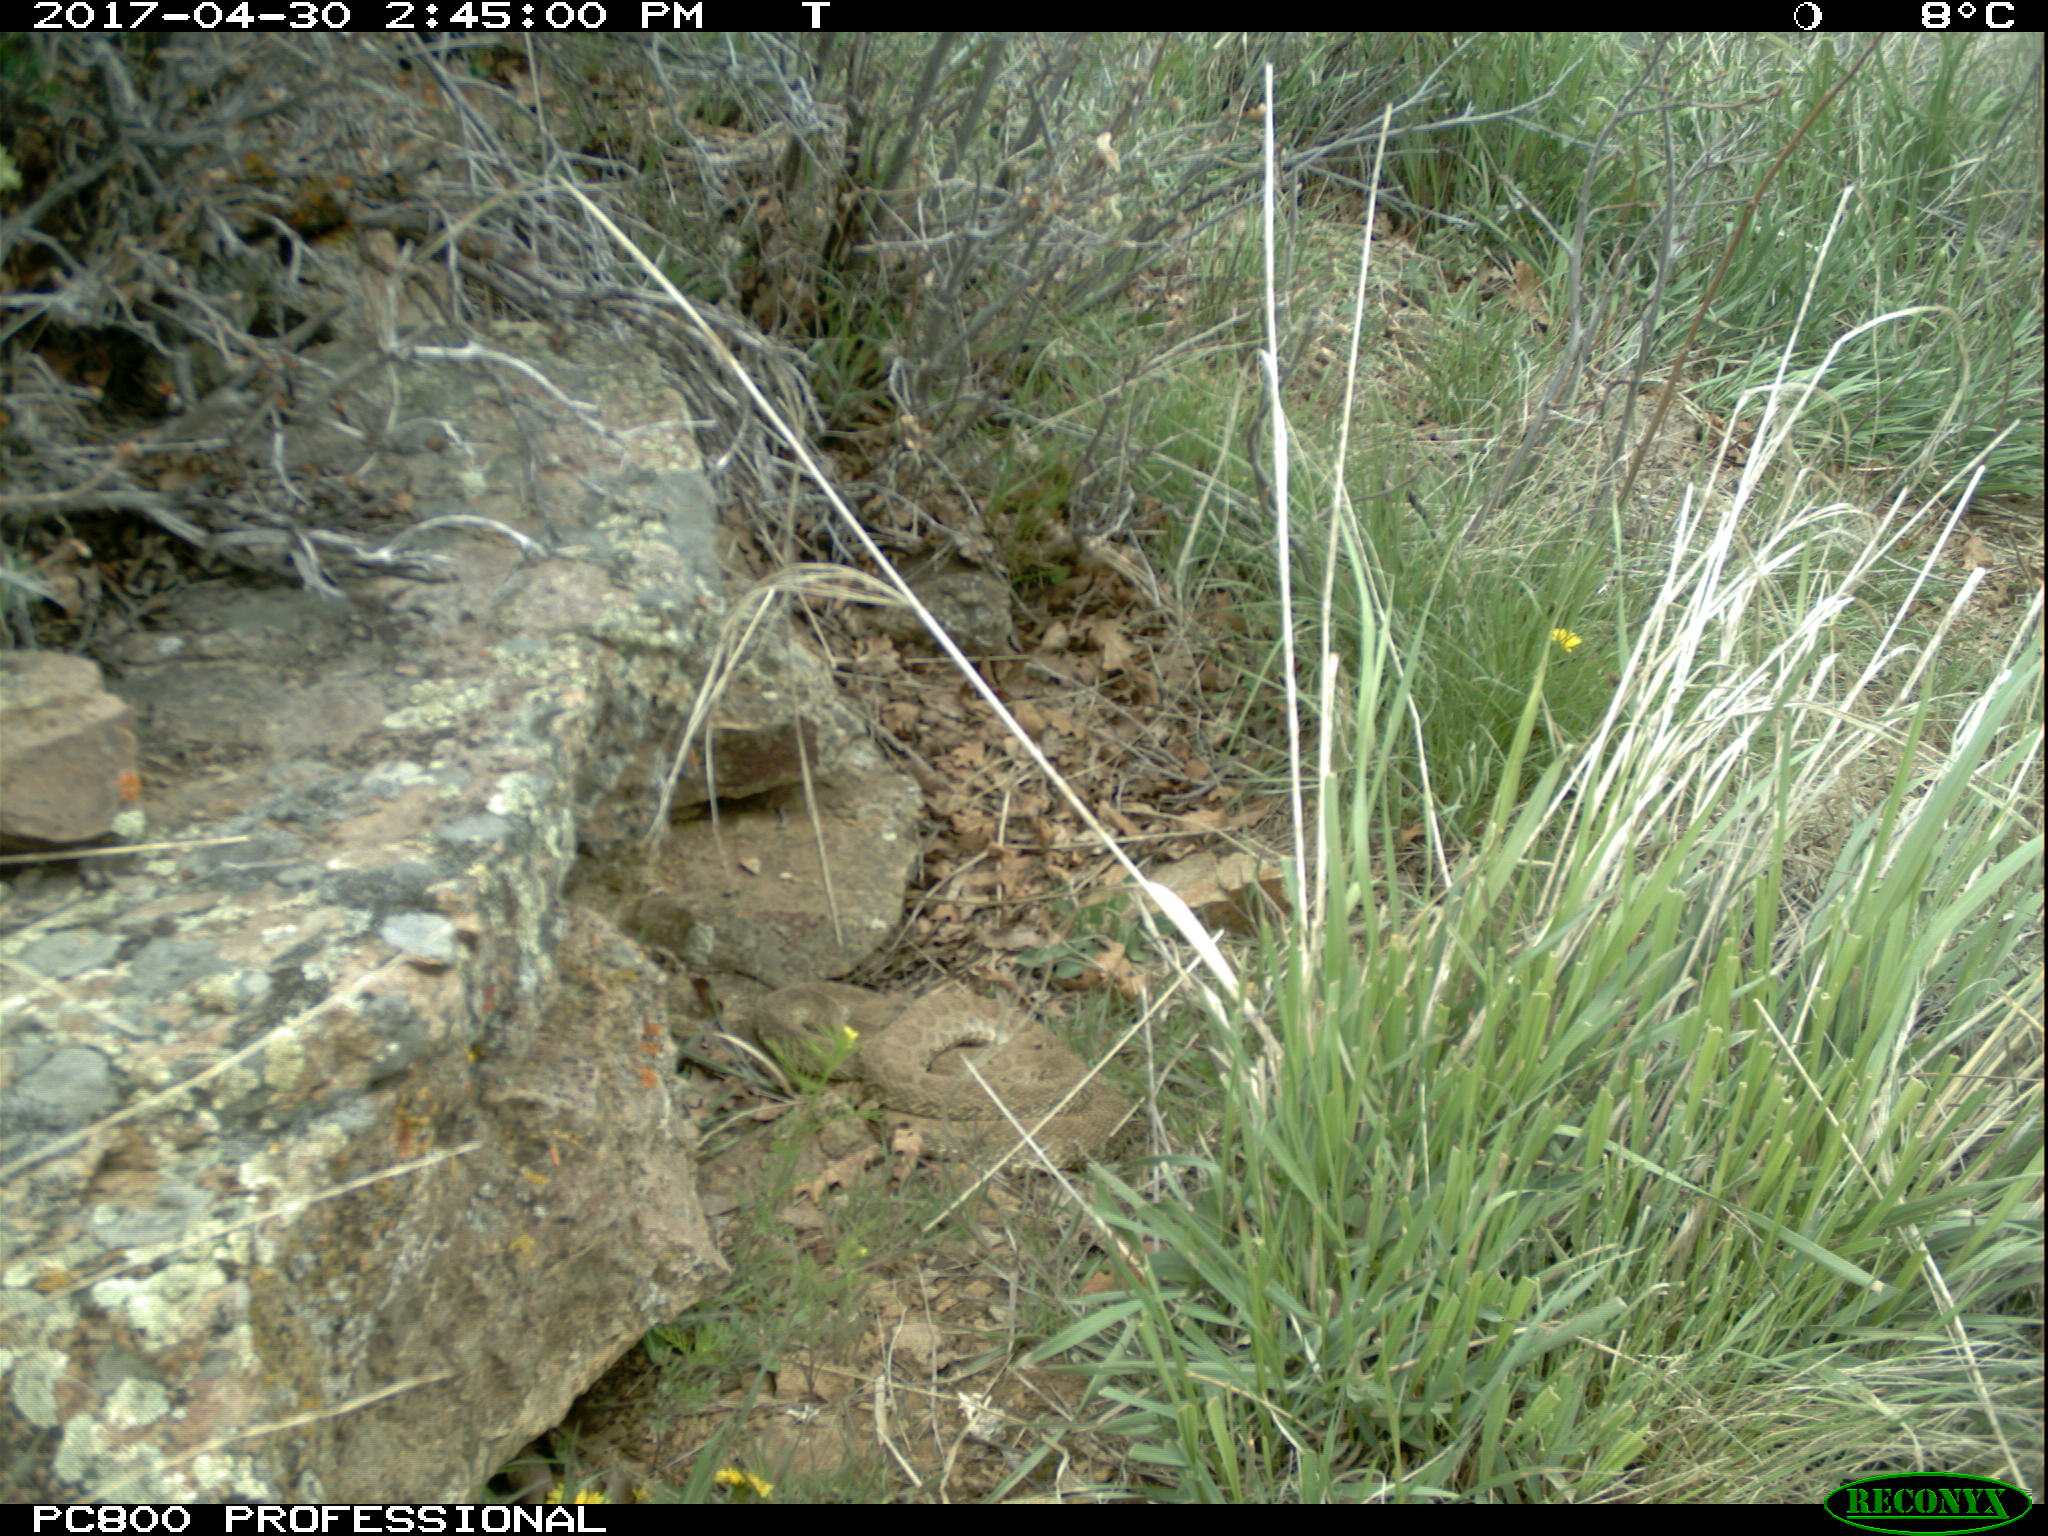snake: (751, 978, 1135, 1155)
